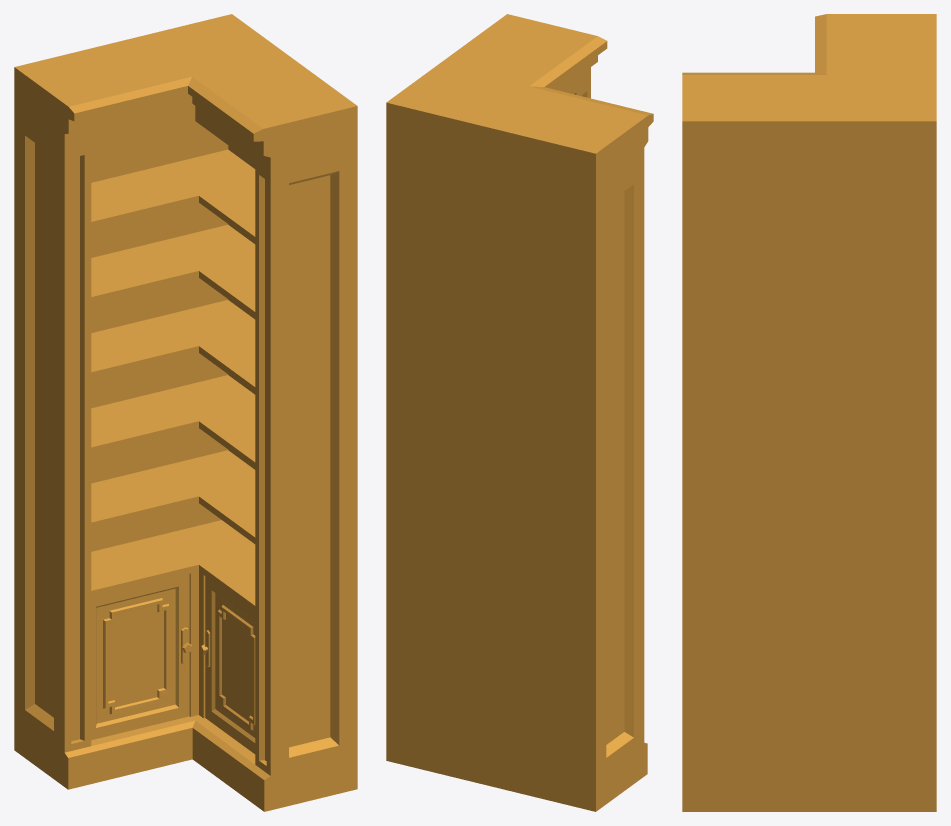
The model's file is SM_Bookcase_Modular_Cabinet_Corner_Inner.fbx.
3 renders of one model, left to right at view 1: azimuth 30°, elevation 25°; view 2: azimuth 150°, elevation 25°; view 3: azimuth 270°, elevation 25°, orthographic. The views are drawn at different scales.
Parts seen in each view (by area): view 1: library-modular-cabinet-corner-inner-base, library-modular-cabinet-corner-inner-door-l, library-modular-cabinet-corner-inner-door-r; view 2: library-modular-cabinet-corner-inner-base; view 3: library-modular-cabinet-corner-inner-base.
Boxes of the visible parts, left/top/right/bottom form: library-modular-cabinet-corner-inner-base: left=14, top=14, right=357, bottom=811; library-modular-cabinet-corner-inner-door-l: left=91, top=574, right=192, bottom=740; library-modular-cabinet-corner-inner-door-r: left=199, top=576, right=255, bottom=753; library-modular-cabinet-corner-inner-base: left=386, top=14, right=653, bottom=811; library-modular-cabinet-corner-inner-base: left=682, top=14, right=936, bottom=811.
Size of the model in its own units: 1 by 3 by 1.
